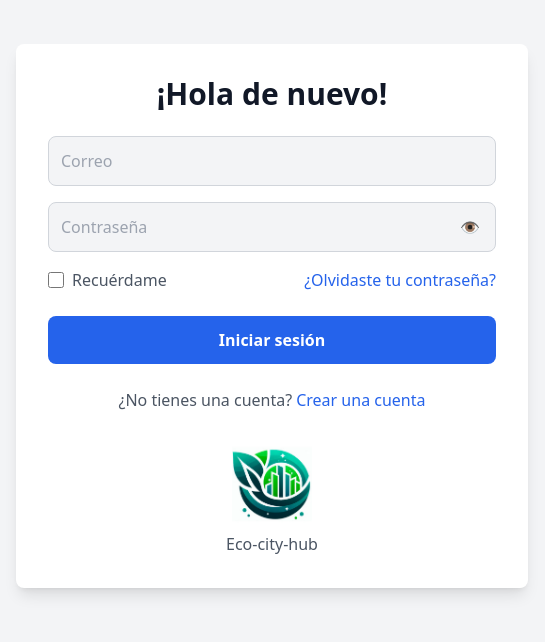
Test case: LogIn Component Tests › shows error message for invalid password format
Type "test@example.com" into the field with placeholder "Correo" at coordinates (272, 161), box left=48, top=136, right=496, bottom=186
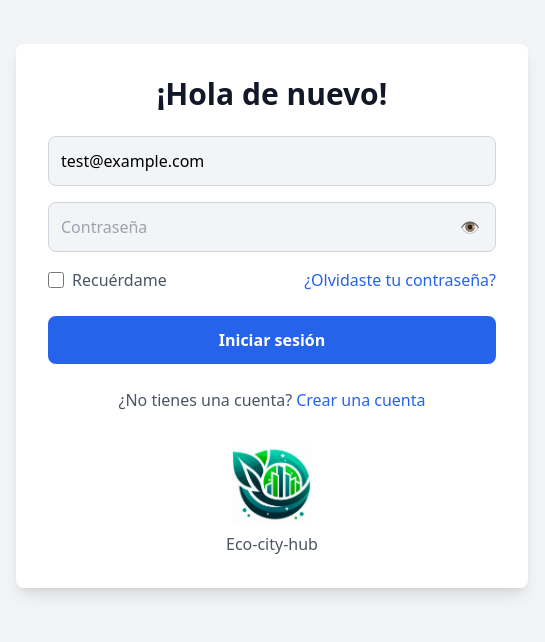
Type "short" into the password field with placeholder "Contraseña" at coordinates (272, 227), box left=48, top=202, right=496, bottom=252
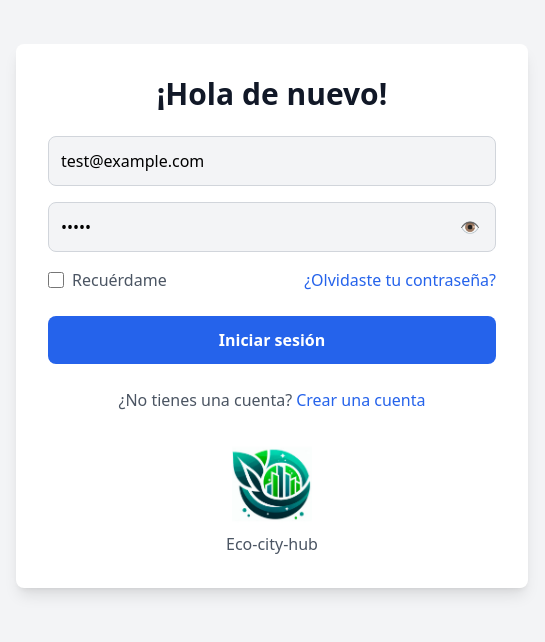
Click the button "Iniciar sesión" at coordinates (272, 340), box left=48, top=316, right=496, bottom=364
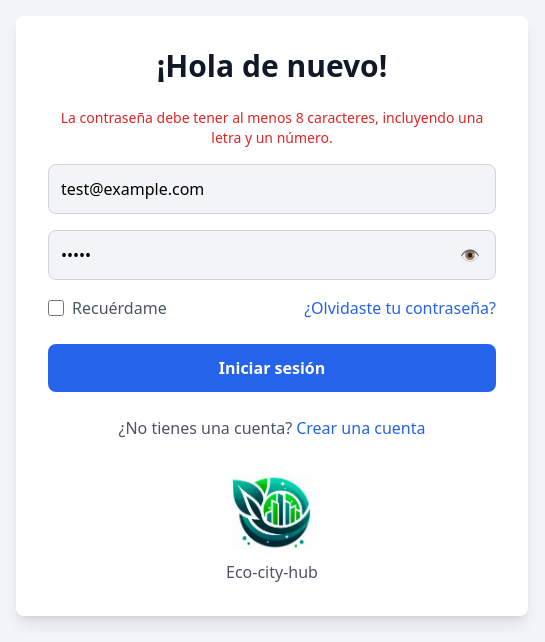
Expected: the text "La contraseña debe tener al menos 8 caracteres, incluyendo una letra y un número." is shown, left=61, top=108, right=483, bottom=147
